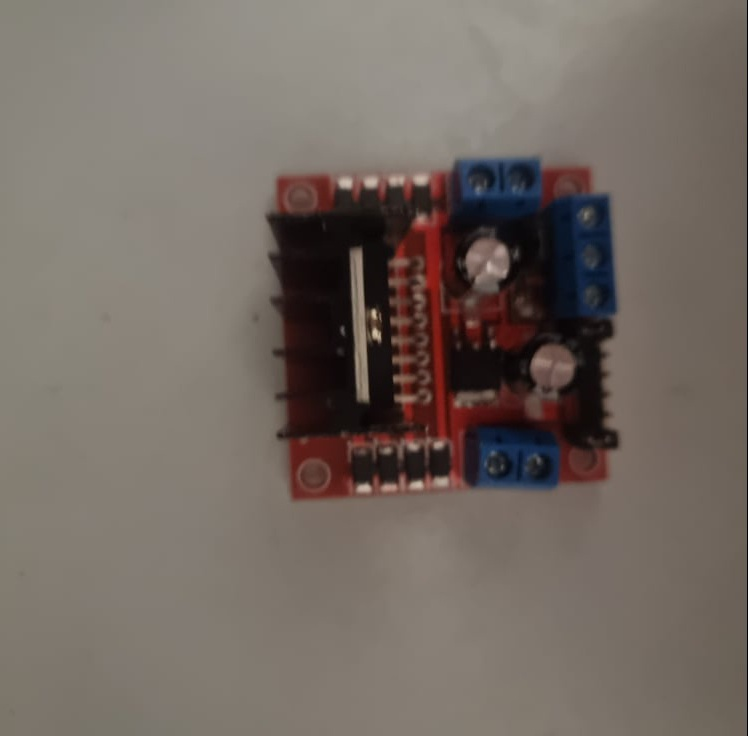MOTOR: (263, 154, 630, 498)
